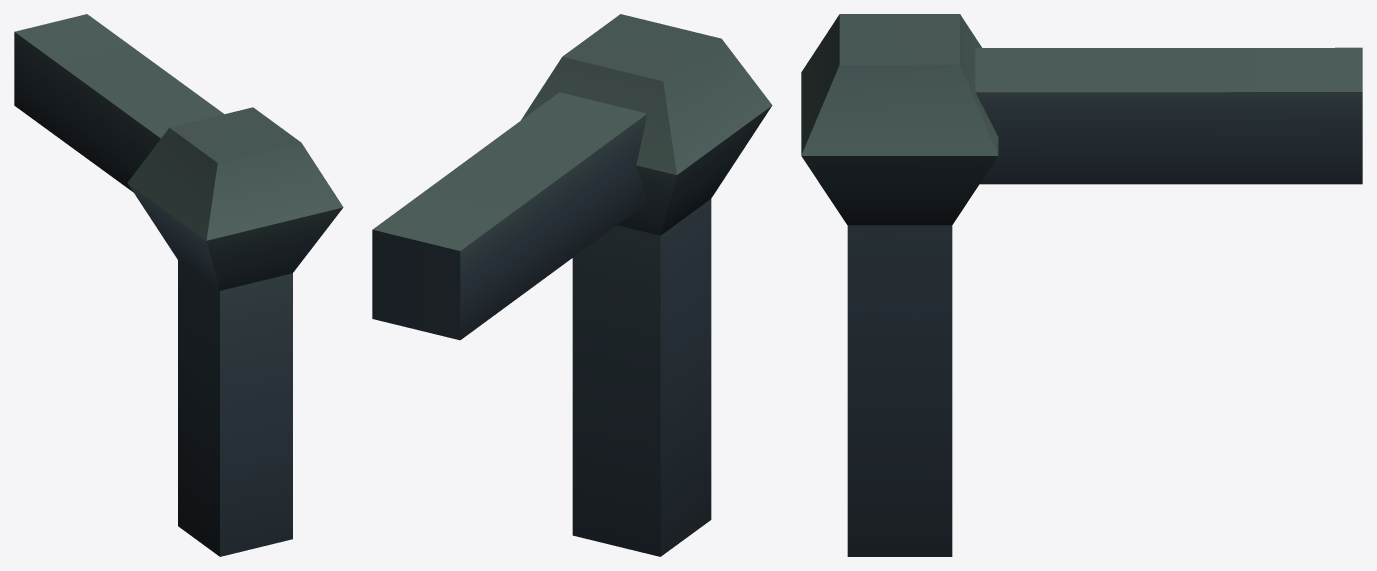
Rendered from handrail1_straight_end_LOD_setup.fbx.
3 views of the same model, side by side, from view 1: azimuth 30°, elevation 25°; view 2: azimuth 150°, elevation 25°; view 3: azimuth 270°, elevation 25° (orthographic). The views are drawn at different scales.
Parts seen in each view (by area): view 1: handrail1_straight_end_LOD0; view 2: handrail1_straight_end_LOD0; view 3: handrail1_straight_end_LOD0.
Boxes of the visible parts, <box> form: handrail1_straight_end_LOD0: <box>14,14,343,556</box>; handrail1_straight_end_LOD0: <box>372,14,772,556</box>; handrail1_straight_end_LOD0: <box>801,14,1362,556</box>.
Size of what is drawn, in the model's own units: 21.3 by 59.05 by 60.65.
